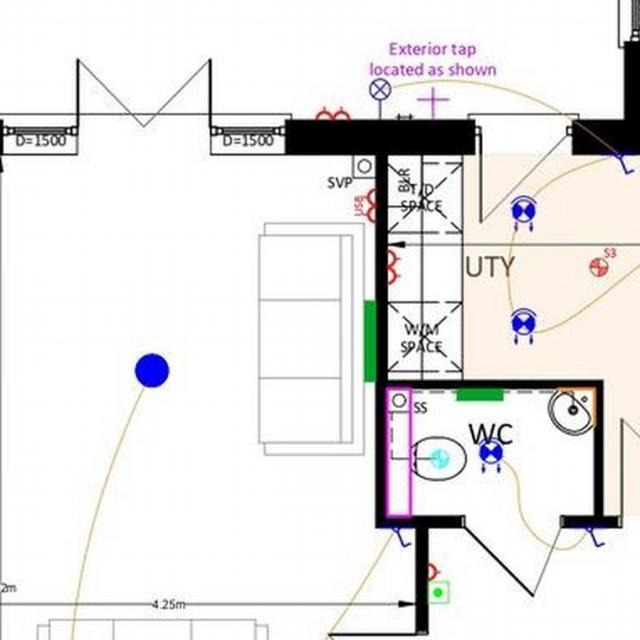Ceiling Mounted Continuous Extract FanWith Boost Mode Activated By Light Switch: (431, 448, 449, 467)
Ceiling Mounted Continuous Extract FanWith Local Boost Switch: (590, 247, 616, 276)
Double Socket: (386, 248, 401, 284), (315, 106, 350, 119)
External Wall Light: (368, 77, 391, 118)
Light Switch: (612, 154, 635, 174), (584, 526, 606, 546), (391, 528, 412, 548)
Low Energy Downlighter: (510, 195, 536, 231), (510, 308, 536, 344), (478, 437, 504, 472)
Low Energy Pendant Light: (134, 353, 168, 387)
Outside Tap: (416, 85, 448, 118)
Programmable Room Thermostat: (426, 580, 448, 603)
Radiator: (362, 300, 374, 380), (455, 388, 502, 401)
Single Socket: (427, 562, 441, 580)
USB Double Socket: (354, 187, 376, 222)
